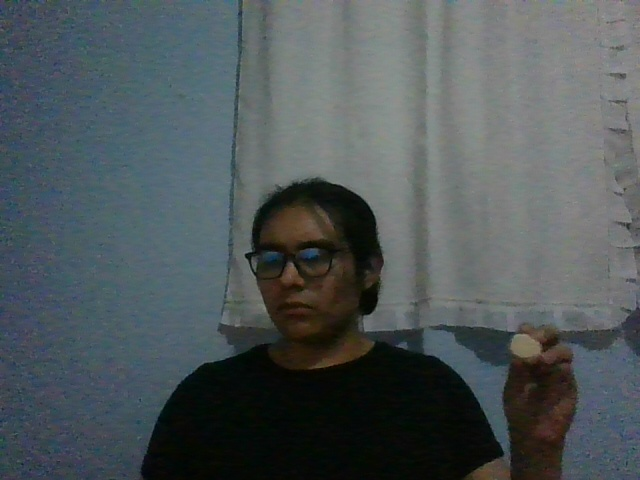goma: (509, 334, 543, 364)
